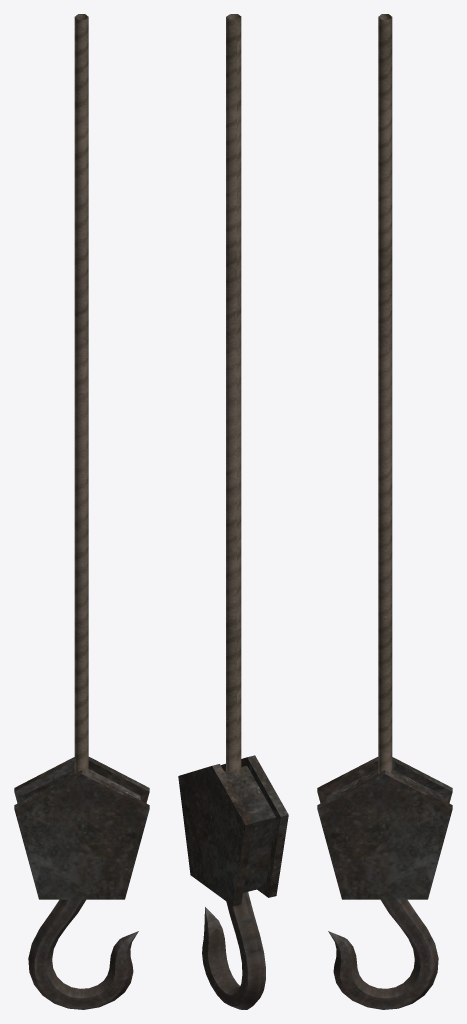
File: Boat_Crane_Hook.fbx
The picture shows the model from 3 angles, left to right: view 1: azimuth 90°, elevation 25°; view 2: azimuth 210°, elevation 25°; view 3: azimuth 270°, elevation 25°; orthographic projection.
Visible parts, largest first — view 1: Boat_Crane_Hook; view 2: Boat_Crane_Hook; view 3: Boat_Crane_Hook.
Part boxes in pixels (box(x1,y1,x2,y2)): Boat_Crane_Hook: box(14, 14, 149, 1009); Boat_Crane_Hook: box(178, 14, 288, 1009); Boat_Crane_Hook: box(317, 14, 452, 1009).
Bounding box in the file's own units: 9.29 × 203 × 25.13.
